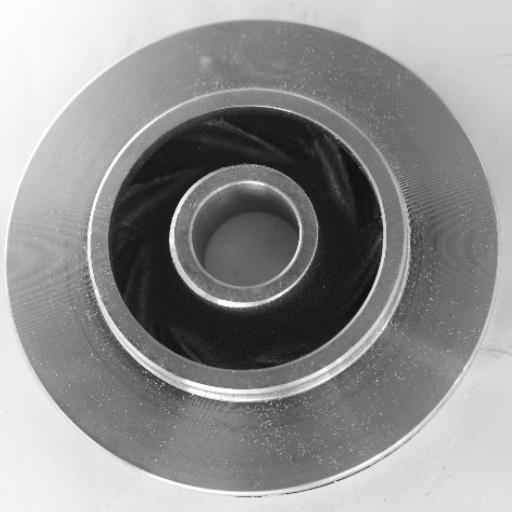polished_casting: (9, 16, 495, 495)
